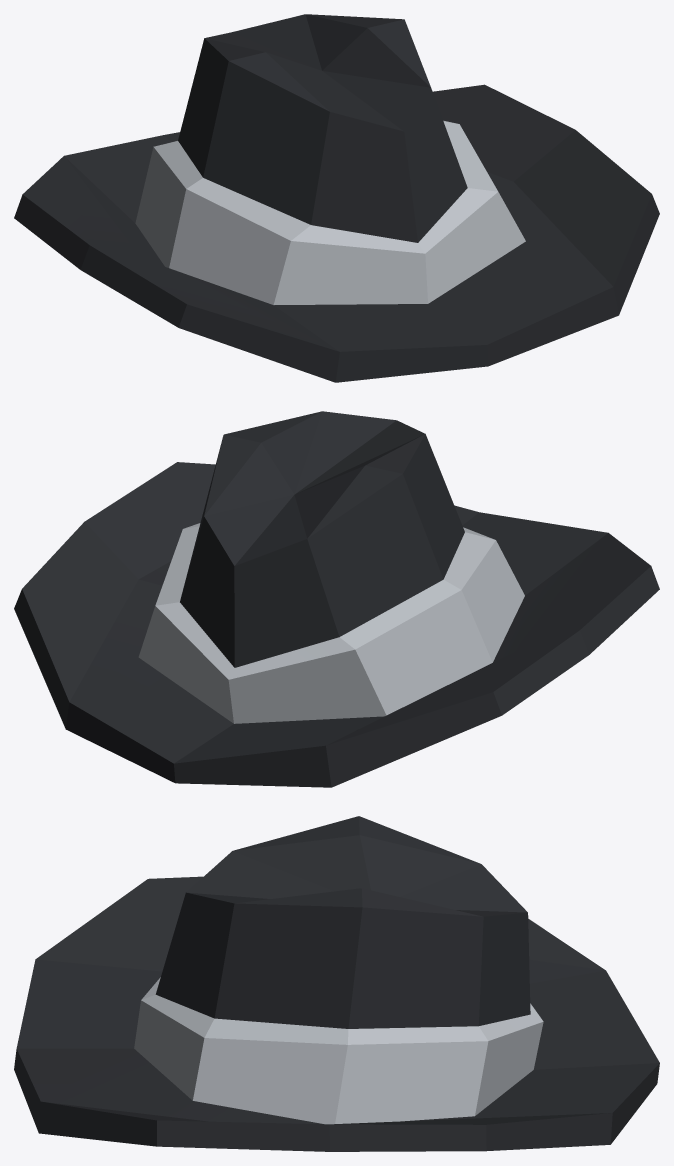
The model's file is SM_Prop_Hat_01.obj.
The picture shows the model from 3 angles, top to bottom: view 1: azimuth 30°, elevation 25°; view 2: azimuth 150°, elevation 25°; view 3: azimuth 270°, elevation 25°; orthographic projection. The views are drawn at different scales.
Visible parts, largest first — view 1: SM_Prop_Hat_01_0; view 2: SM_Prop_Hat_01_0; view 3: SM_Prop_Hat_01_0.
Boxes of the visible parts, left/top/right/bottom form: SM_Prop_Hat_01_0: left=14, top=14, right=659, bottom=382; SM_Prop_Hat_01_0: left=14, top=411, right=659, bottom=787; SM_Prop_Hat_01_0: left=14, top=816, right=659, bottom=1151.
Bounding box in the file's own units: 0.3945 × 0.1816 × 0.4247.
Materials: 1 (1 with a texture image).
